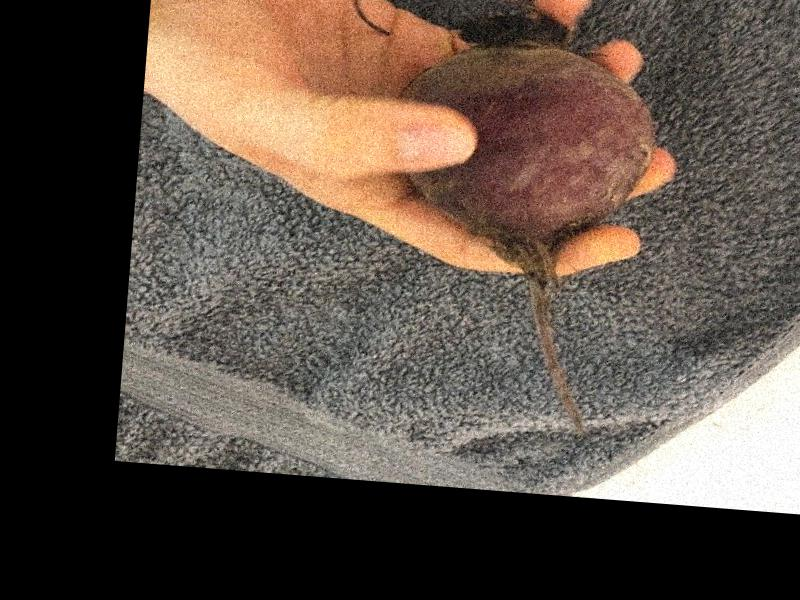Beet: (372, 8, 664, 441)
